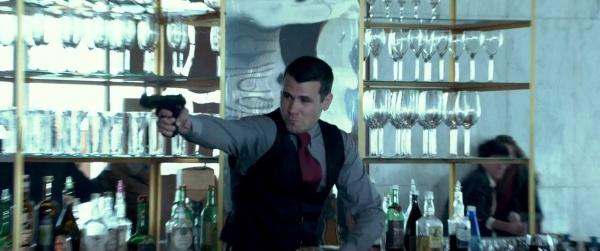Gun: (138, 90, 186, 138)
